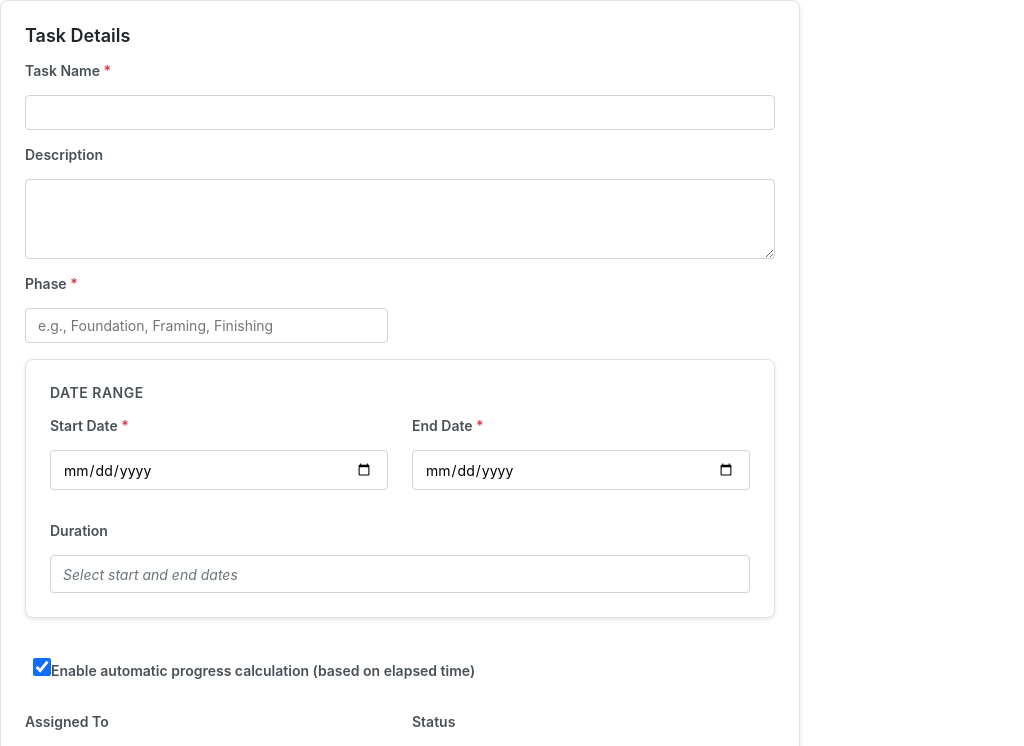
Test: TaskForm Date Validation › should calculate duration correctly
The image size is (1024, 746).
Type "2024-01-01" into the date field labelled "Start Date *".
click(219, 470); type("2024-01-01")  # box [50, 450, 388, 490]
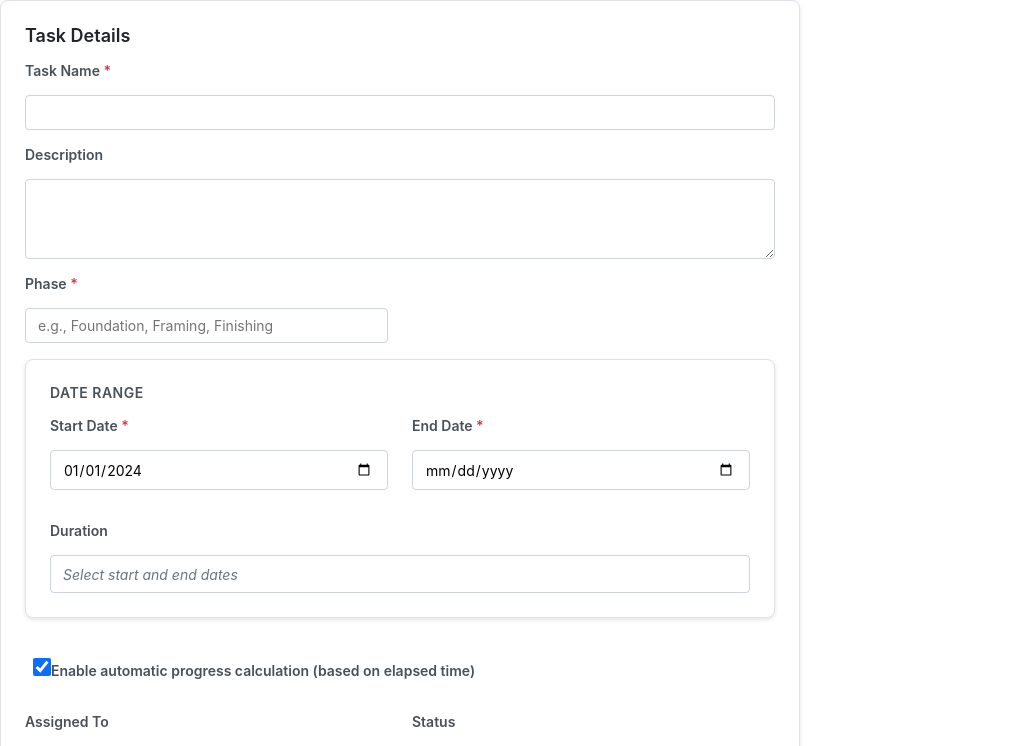
Type "2024-01-15" into the date field labelled "End Date *".
click(581, 470); type("2024-01-15")  # box [412, 450, 750, 490]
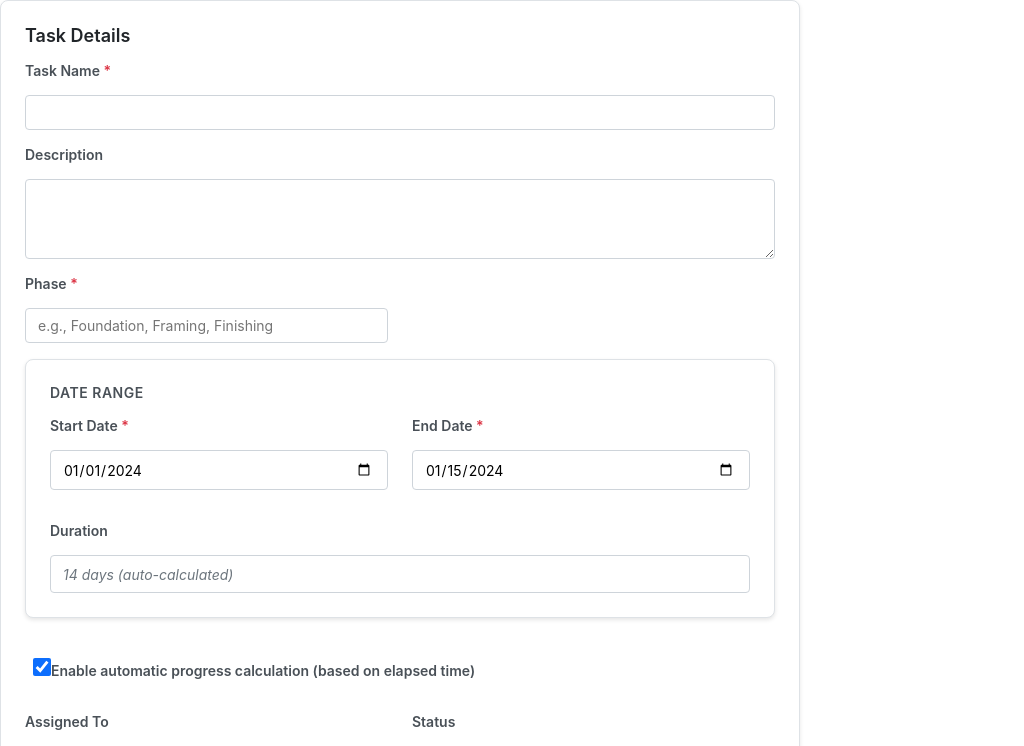
Expected: the text "14 days (auto-calculated)" is shown, [50, 555, 750, 593]
